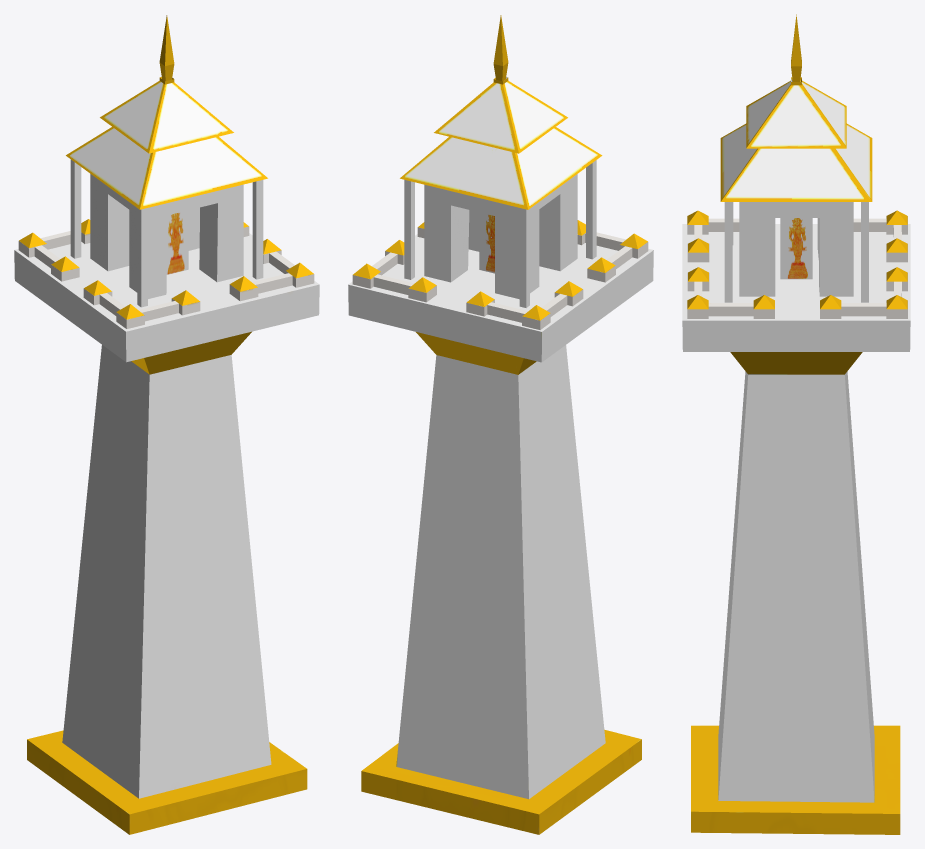
File: shrine.fbx
3 views of the same model, side by side, from view 1: azimuth 30°, elevation 25°; view 2: azimuth 150°, elevation 25°; view 3: azimuth 270°, elevation 25° (orthographic). The views are drawn at different scales.
Visible parts, largest first — view 1: Cube, Cube.001; view 2: Cube, Cube.001; view 3: Cube, Cube.001.
Part boxes in pixels (box(x1,y1,x2,y2)): Cube: box(14, 15, 319, 834); Cube.001: box(18, 219, 314, 328); Cube: box(348, 15, 653, 834); Cube.001: box(352, 220, 648, 329); Cube: box(682, 14, 910, 834); Cube.001: box(687, 210, 907, 318).
Size of the model in its own units: 40.4 by 152 by 40.4.
2 materials, 2 textured.
